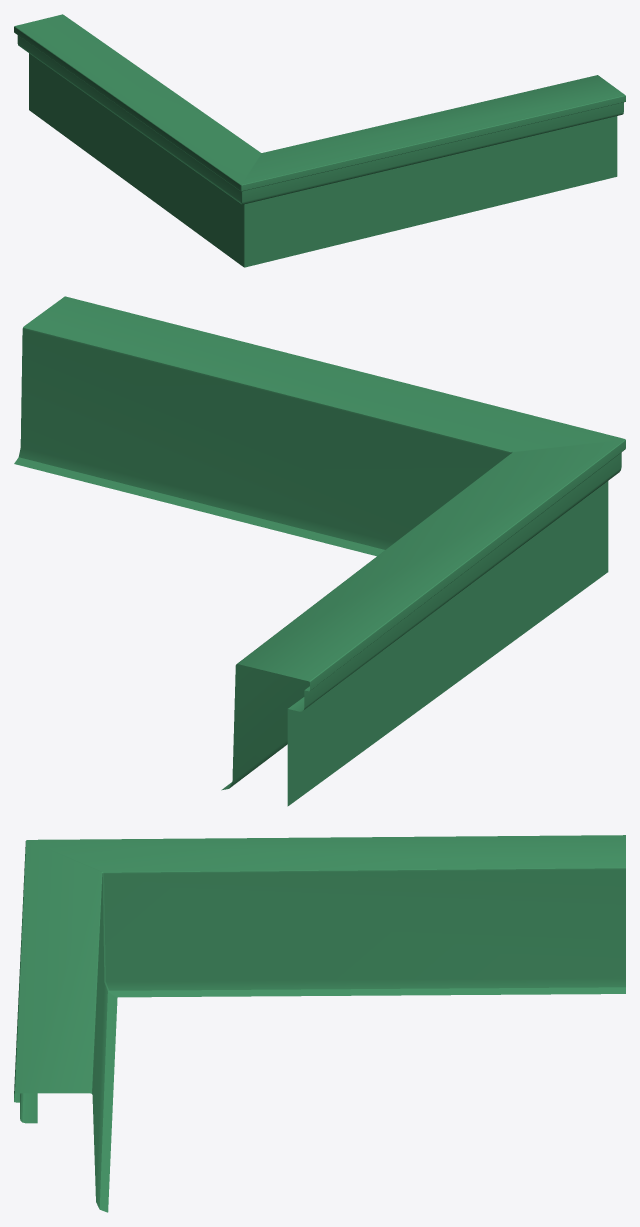
File: GS_Ext_Roof_Trim_Corner_02.fbx
3 views of the same model, one above another, from view 1: azimuth 30°, elevation 25°; view 2: azimuth 150°, elevation 25°; view 3: azimuth 270°, elevation 25° (orthographic). The views are drawn at different scales.
Parts seen in each view (by area): view 1: GS_Ext_Roof_Trim_Corner_02; view 2: GS_Ext_Roof_Trim_Corner_02; view 3: GS_Ext_Roof_Trim_Corner_02.
Boxes of the visible parts, x1=… form: GS_Ext_Roof_Trim_Corner_02: x1=14, y1=14, x2=625, y2=267; GS_Ext_Roof_Trim_Corner_02: x1=14, y1=296, x2=625, y2=806; GS_Ext_Roof_Trim_Corner_02: x1=14, y1=835, x2=625, y2=1212.
Bounding box in the file's own units: 260 × 56 × 260.
